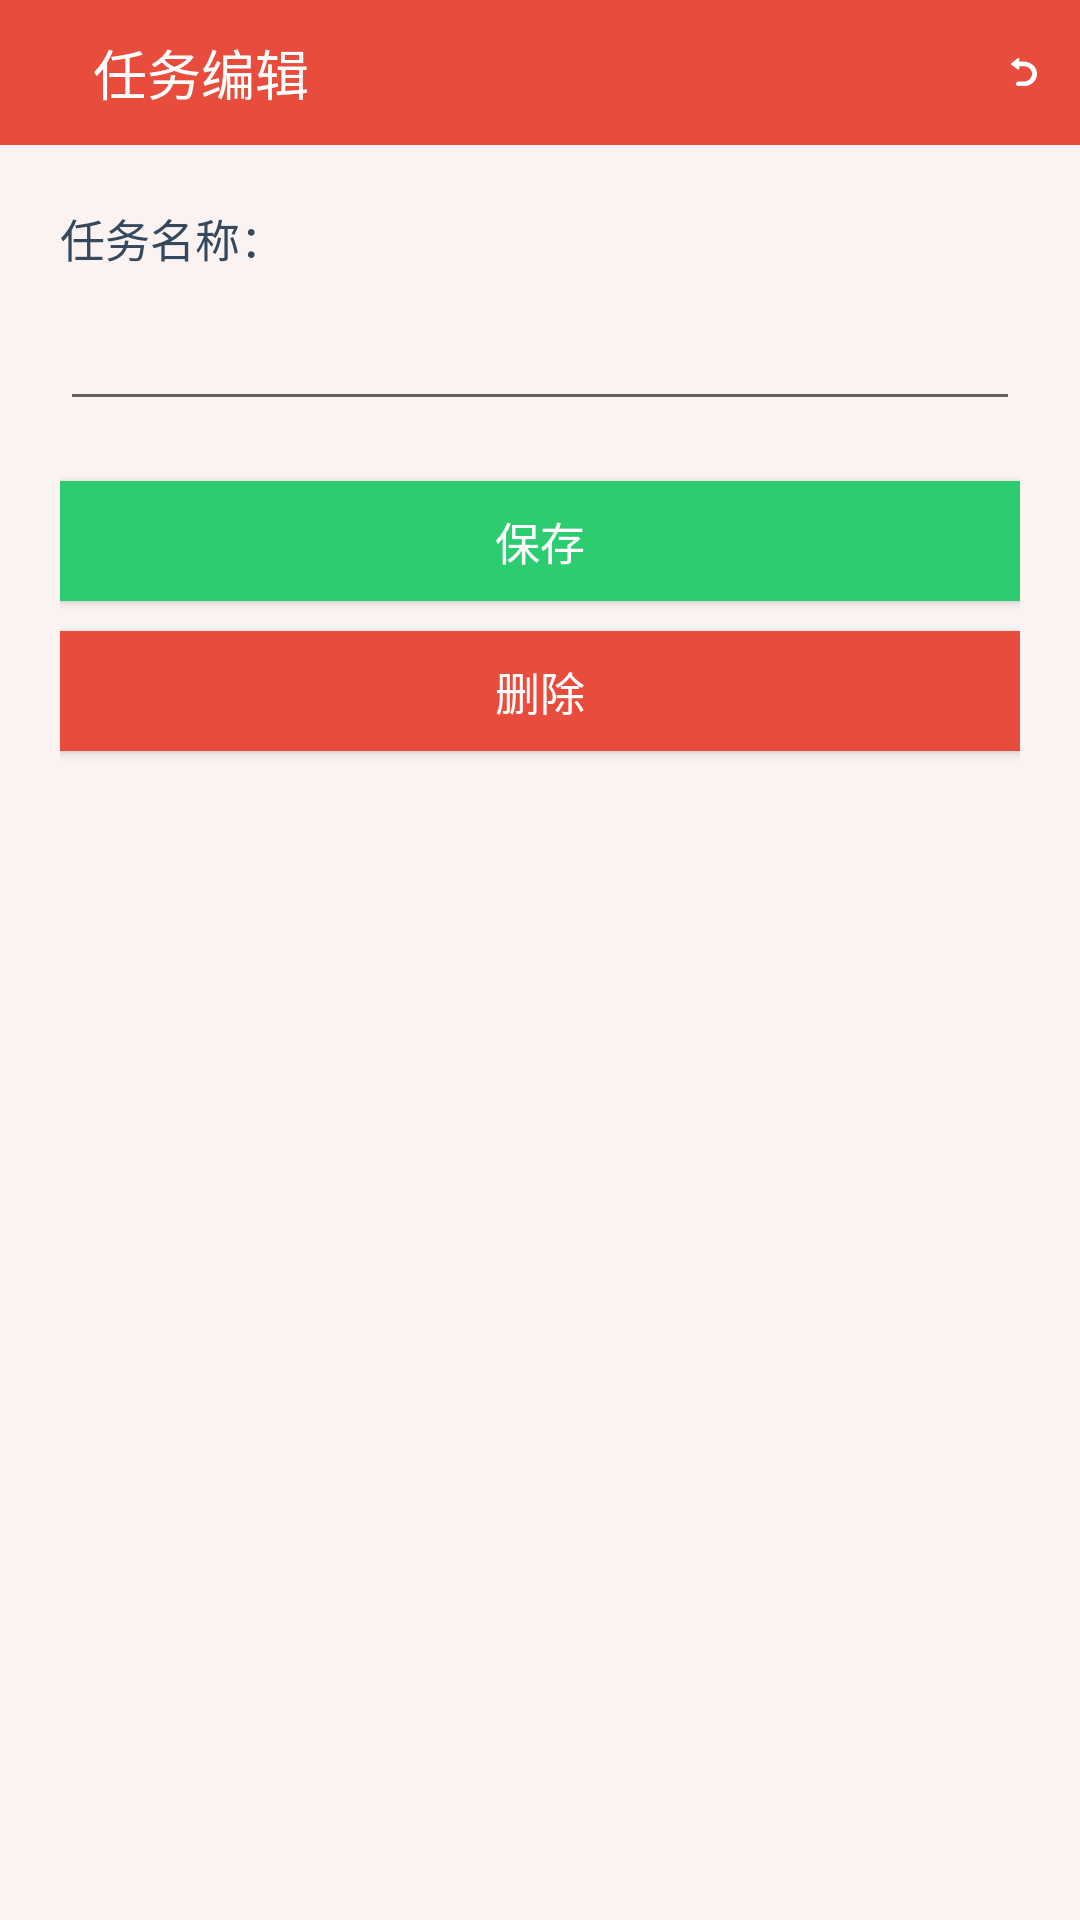

Named icons in this screenshot (1080x1920) and their bounding boxes, (x1, y1, x2, y2):
back: (1011, 58, 1037, 86)
